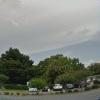Tree: (7, 43, 76, 86)
